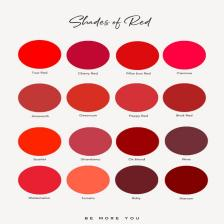red: (66, 83, 110, 112), (18, 40, 61, 69), (116, 41, 159, 70), (115, 83, 158, 112), (18, 166, 61, 195), (165, 166, 208, 195), (66, 41, 110, 69), (18, 84, 61, 112), (163, 41, 206, 69), (18, 128, 61, 156), (116, 128, 159, 156), (69, 128, 112, 156)
